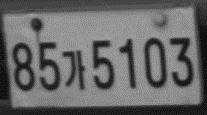0: (143, 37, 167, 88)
1: (118, 37, 137, 89)
3: (169, 36, 194, 87)
5: (91, 39, 114, 90), (38, 41, 60, 90)
8: (11, 42, 35, 91)
가: (62, 49, 85, 90)
